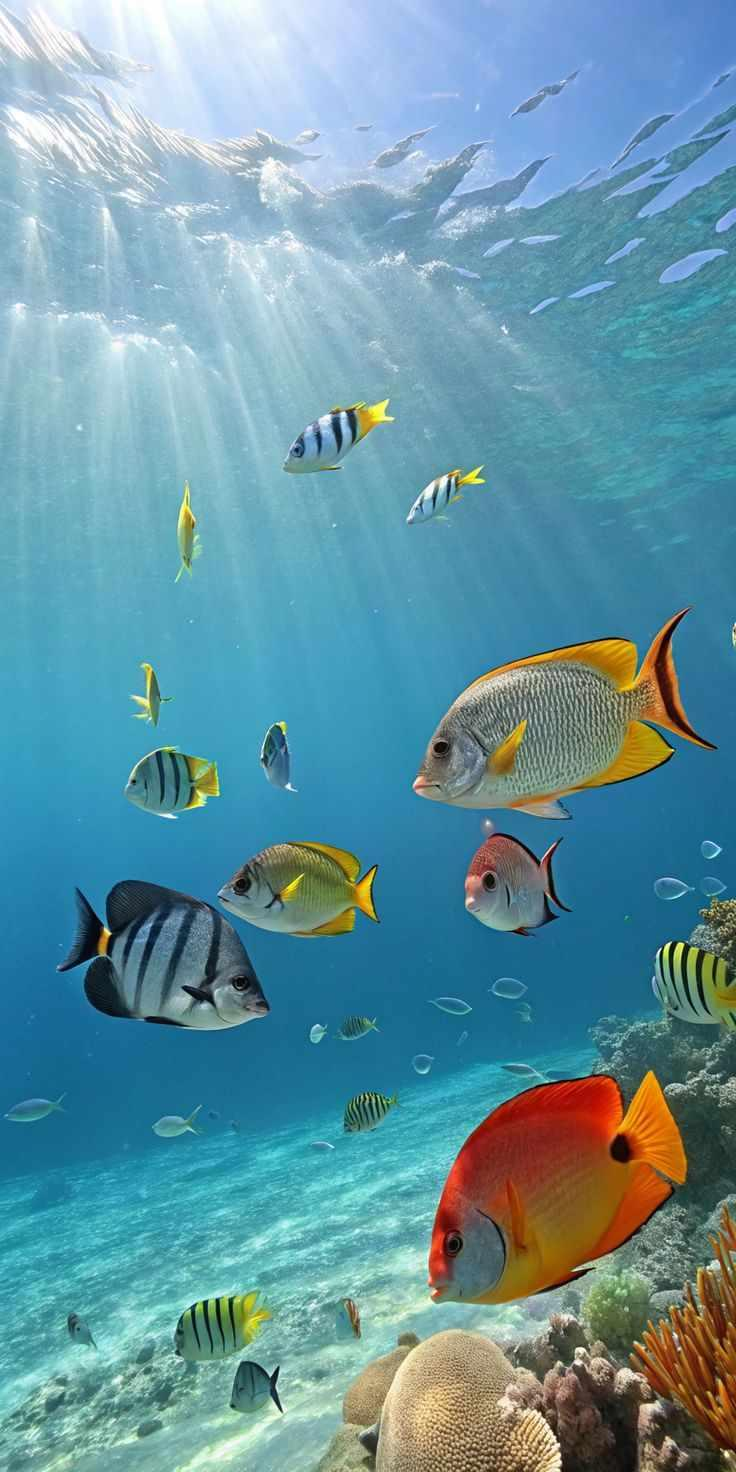fish: (414, 608, 715, 818), (427, 1072, 687, 1304), (57, 880, 269, 1031), (216, 839, 379, 938), (464, 834, 574, 936), (282, 399, 396, 474), (651, 941, 736, 1032), (124, 746, 220, 821), (174, 1289, 271, 1361), (407, 466, 483, 525), (343, 1088, 408, 1135), (173, 481, 203, 581), (230, 1360, 282, 1416), (261, 719, 298, 792), (130, 663, 171, 726), (3, 1091, 70, 1123), (148, 1102, 203, 1138), (332, 1016, 381, 1041), (425, 995, 472, 1016), (653, 878, 695, 900), (490, 977, 527, 999), (698, 876, 727, 897), (500, 1064, 543, 1078), (412, 1055, 436, 1075), (309, 1024, 329, 1044), (700, 841, 721, 859)
